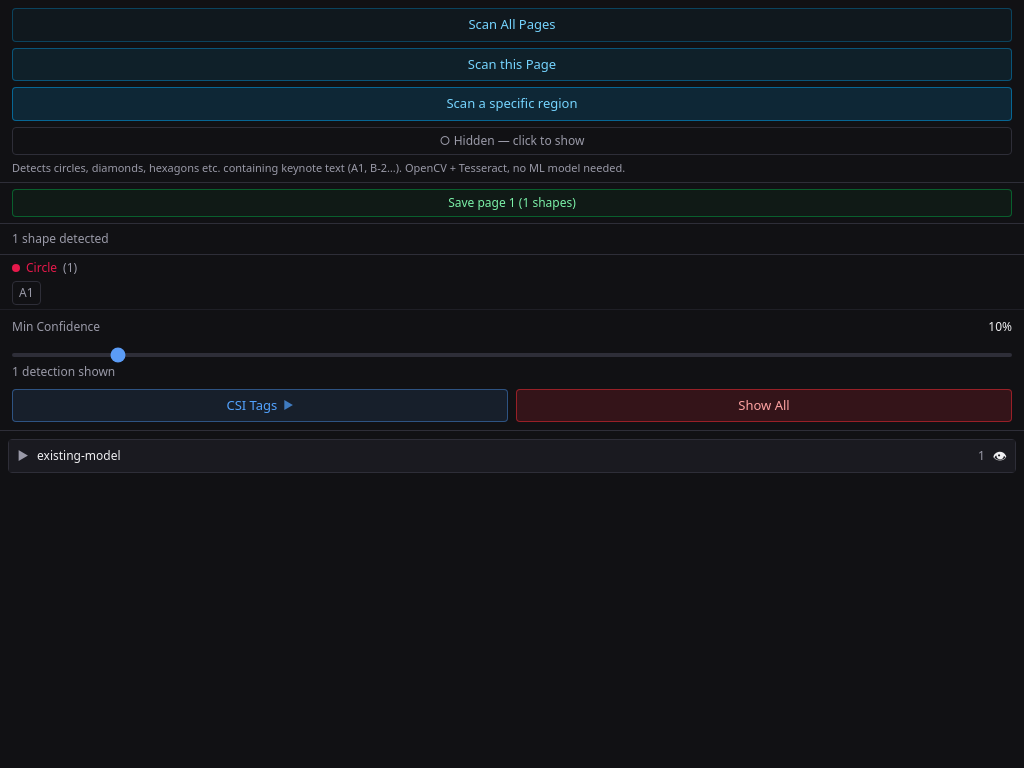
Test case: DetectionPanel shape-save — guard, raw-fetch failure, and append+clear › pre-bootstrap guard keeps pending shapes and performs no annotation write
The image size is (1024, 768).
Click the button "Save page 1 (1 shapes)" at coordinates (512, 203), box [12, 189, 1012, 217]
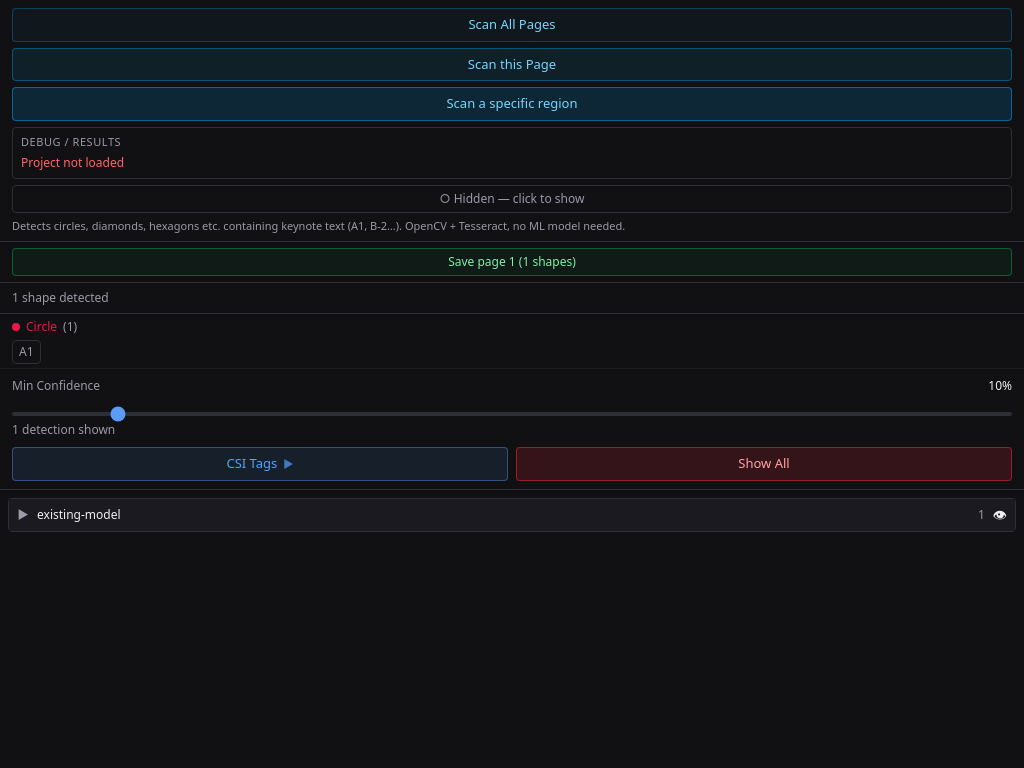
Expected: the button "Save page 1 (1 shapes)" is enabled, [12, 248, 1012, 276]
Result: the text "Project not loaded" is shown at [21, 154, 124, 171]
